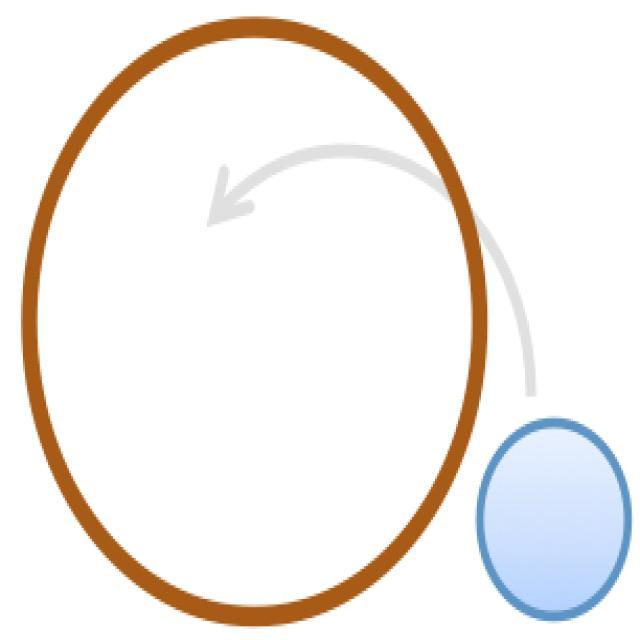Circle: (22, 18, 488, 625), (476, 418, 631, 620)
